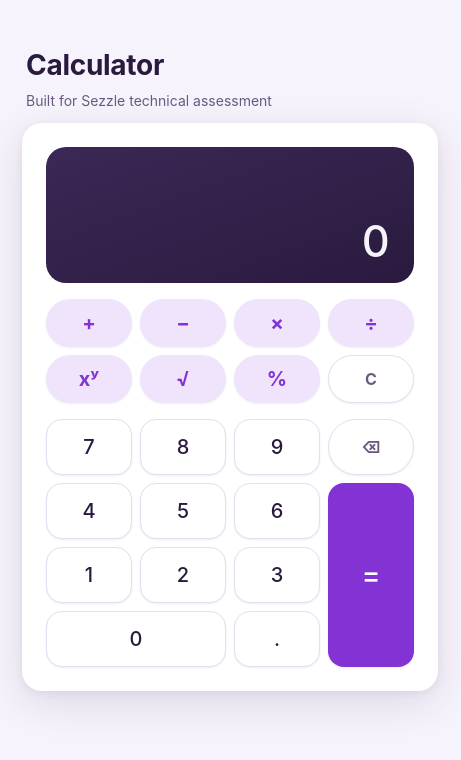
Test: App › calculates 12 ÷ 4 = 3 through the backend
This screenshot has width=461, height=760.
Step 1. Click the button "1" → click(89, 574), box left=46, top=546, right=132, bottom=602
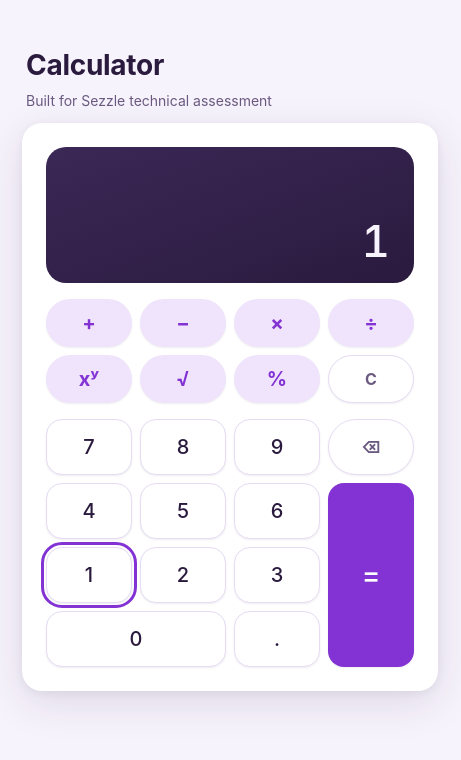
Step 2. Click the button "2" → click(183, 574), box left=140, top=546, right=226, bottom=602
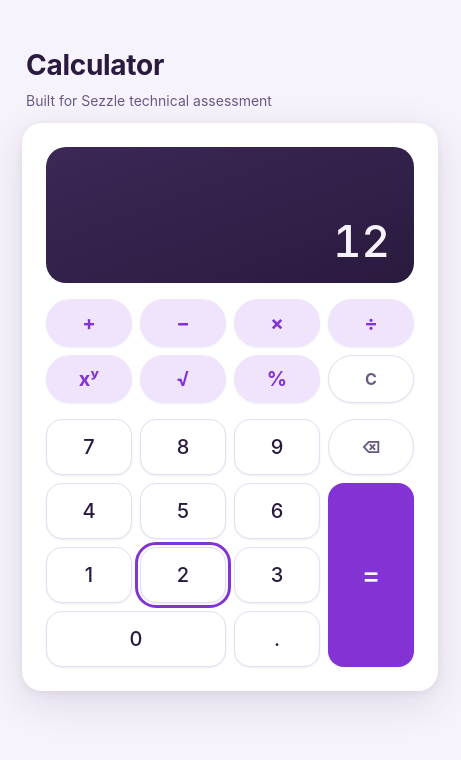
Step 3. Click the button named "Divide" → click(371, 322), box left=328, top=298, right=414, bottom=346
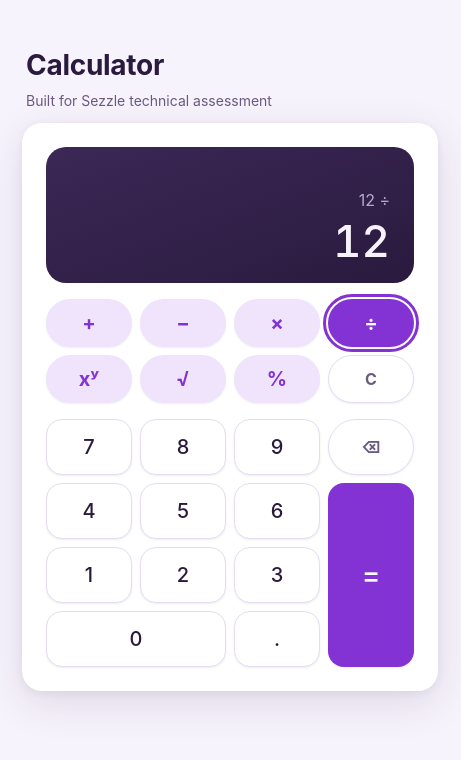
Step 4. Click the button "4" → click(89, 510), box left=46, top=482, right=132, bottom=538
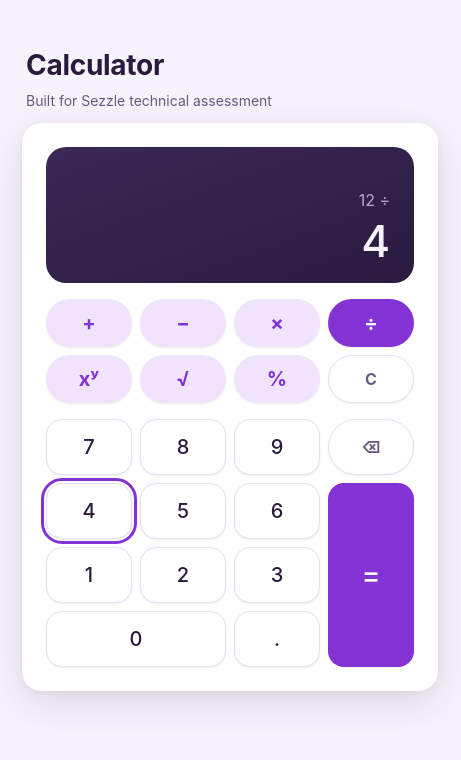
Check: the text with test id "expression" reads "12 ÷", box left=359, top=190, right=390, bottom=210
Check: the text "4" is shown, box left=362, top=214, right=390, bottom=268
Step 5. Click the button named "Equals" → click(371, 574), box left=328, top=482, right=414, bottom=666
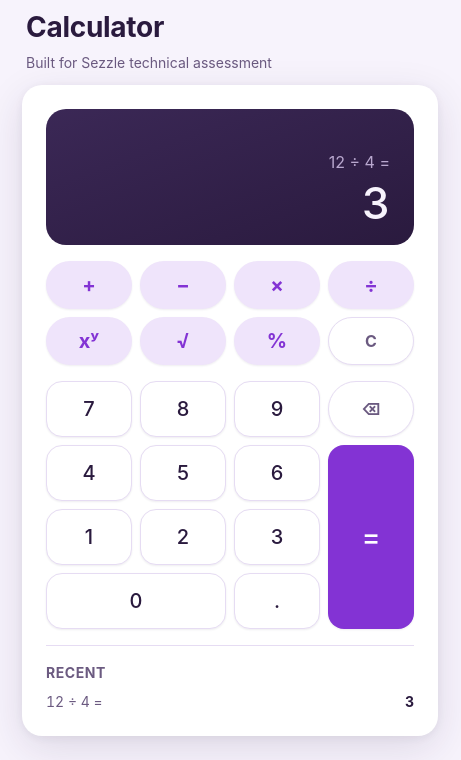
Check: the 1st text "3" is shown, box left=362, top=176, right=390, bottom=230
Check: the text with test id "expression" reads "12 ÷ 4 =", box left=329, top=152, right=390, bottom=172
Check: the text "12 ÷ 4 =" below "Recent" is shown, box left=46, top=691, right=103, bottom=712
